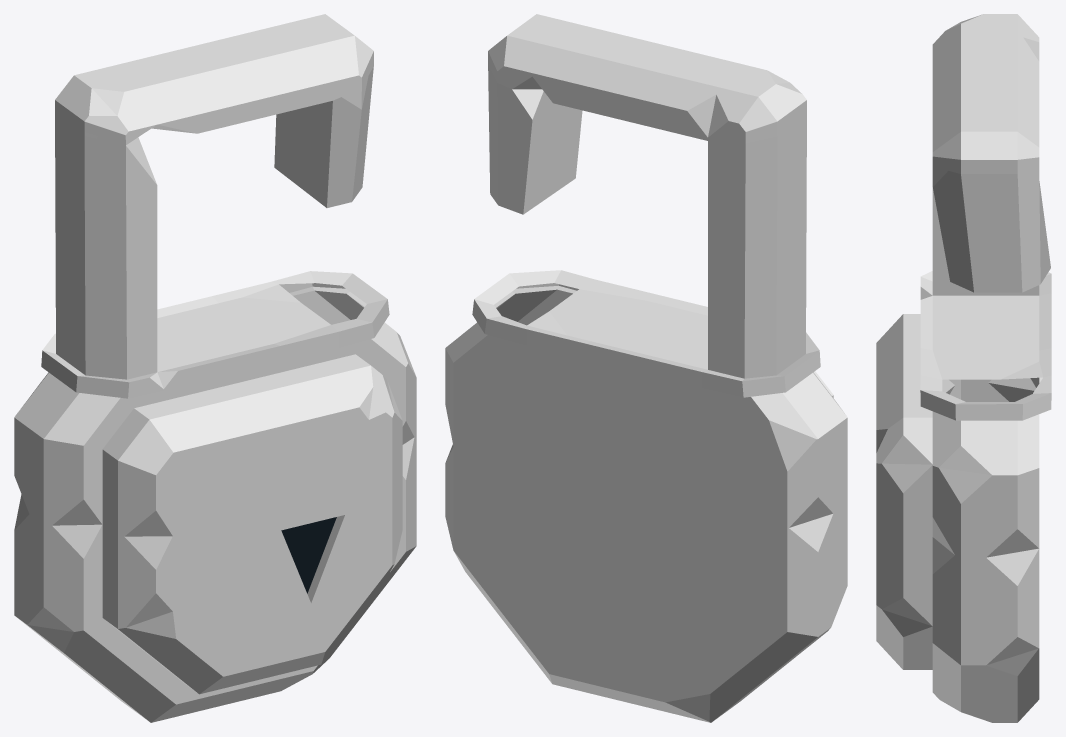
The model's file is white_unlock.glb.
3 views of the same model, side by side, from view 1: azimuth 30°, elevation 25°; view 2: azimuth 150°, elevation 25°; view 3: azimuth 270°, elevation 25° (orthographic). The views are drawn at different scales.
Visible parts, largest first — view 1: Circle.017; view 2: Circle.017; view 3: Circle.017.
Part boxes in pixels (x1,y1,x2,y2): Circle.017: (14, 14, 416, 722); Circle.017: (445, 14, 847, 722); Circle.017: (876, 14, 1051, 722).
Size of the model in its own units: 2 by 3.27 by 0.8475.
Materials: 1 (1 with a texture image).
